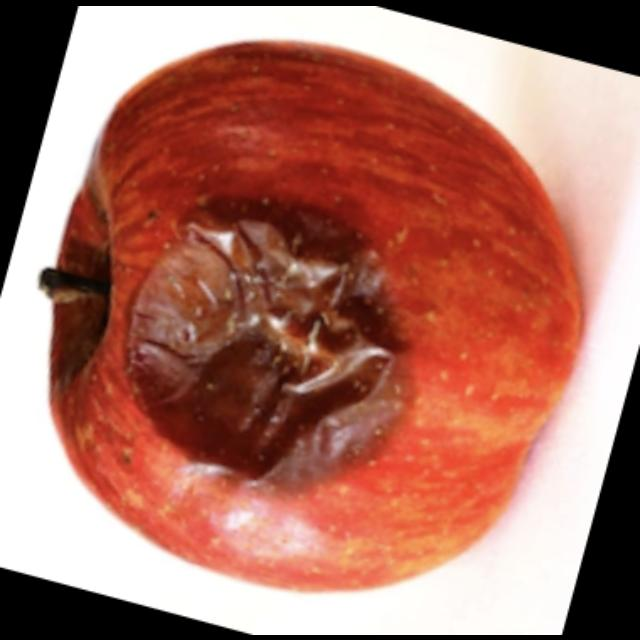Apel Segar: (149, 47, 591, 563)
Apel Tidak Segar: (61, 122, 458, 534)
